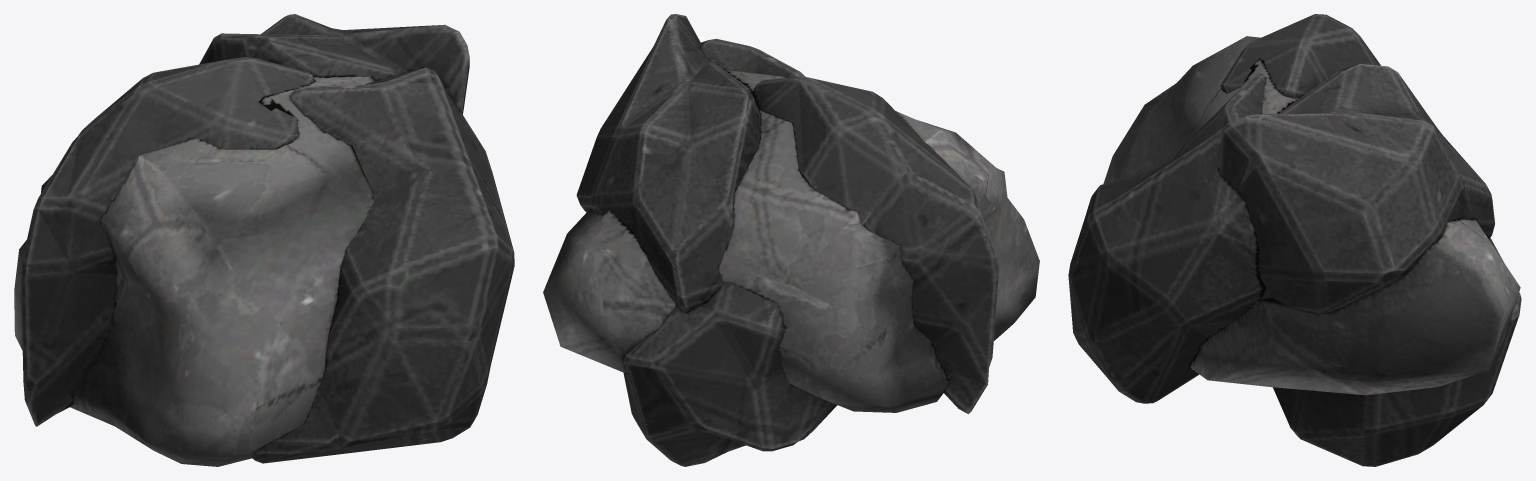
Rendered from CoalOreCluster.glb.
The picture shows the model from 3 angles, left to right: view 1: azimuth 30°, elevation 25°; view 2: azimuth 150°, elevation 25°; view 3: azimuth 270°, elevation 25°; orthographic projection. The views are drawn at different scales.
Parts seen in each view (by area): view 1: CoalOreCluster; view 2: CoalOreCluster; view 3: CoalOreCluster.
Boxes of the visible parts, x1=… form: CoalOreCluster: x1=14, y1=14, x2=514, y2=466; CoalOreCluster: x1=543, y1=14, x2=1039, y2=466; CoalOreCluster: x1=1068, y1=14, x2=1521, y2=466.
Bounding box in the file's own units: 0.6228 × 0.598 × 0.6205.
1 material, 1 textured.
